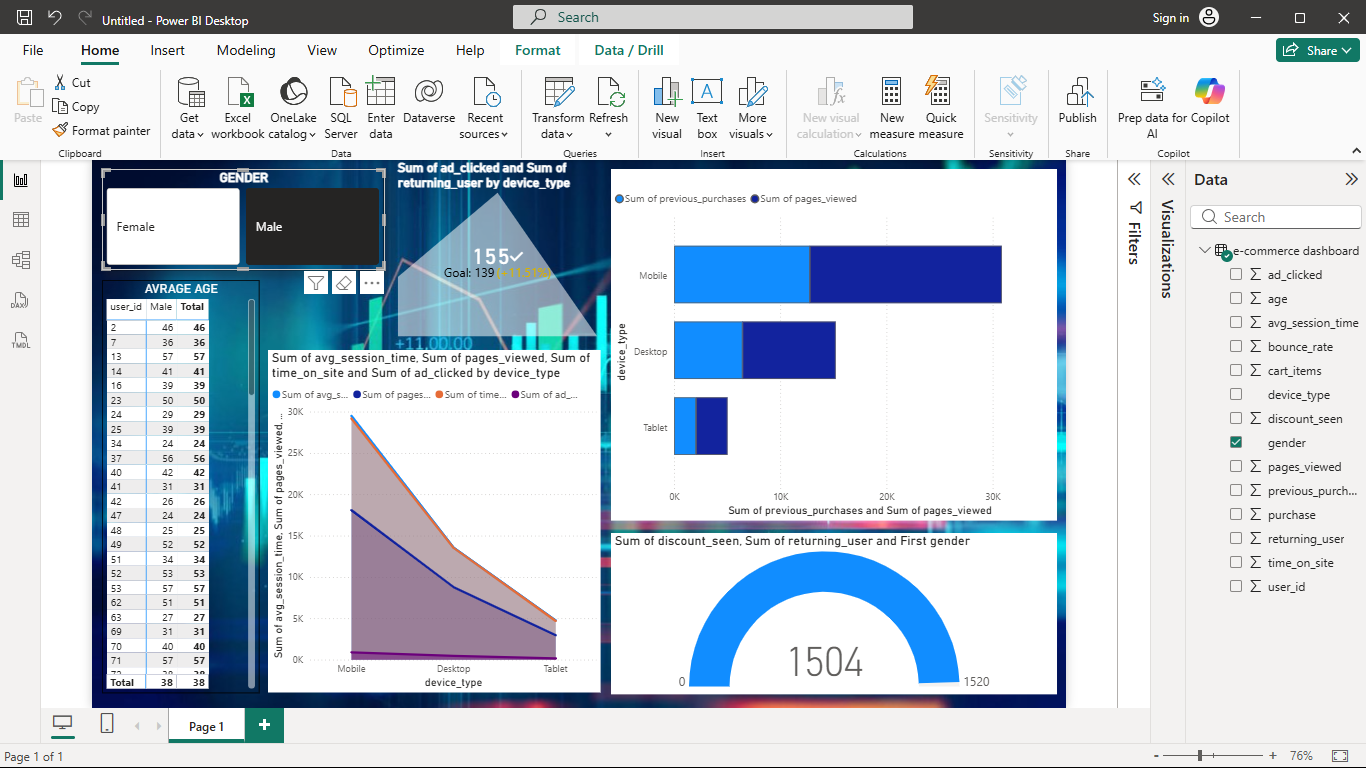

What the dashboard file says about the page in this screenshot:
{"tool":"powerbi","page":{"name":"Page 1","canvas":[1280,720],"ordinal":0},"visuals":[{"type":"advancedSlicerVisual","title":"GENDER","fields":{"Values":["e-commerce dashboard.gender"]},"box":[13.4,11.8,371.2,132.7],"z":0},{"type":"pivotTable","title":"AVRAGE AGE","fields":{"Rows":["e-commerce dashboard.user_id"],"Columns":["e-commerce dashboard.gender"],"Values":["Median(e-commerce dashboard.age)"]},"box":[13.4,157.9,206.6,542.6],"z":1000},{"type":"barChart","fields":{"Y":["Sum(e-commerce dashboard.previous_purchases)","Sum(e-commerce dashboard.pages_viewed)"],"Category":["e-commerce dashboard.device_type"]},"box":[682,11.8,586.2,461.9],"z":2000},{"type":"kpi","fields":{"Indicator":["Sum(e-commerce dashboard.ad_clicked)"],"TrendLine":["e-commerce dashboard.device_type"],"Goal":["Sum(e-commerce dashboard.returning_user)"]},"box":[396.4,0,272.1,236.9],"z":2001},{"type":"areaChart","fields":{"Y":["Sum(e-commerce dashboard.avg_session_time)","Sum(e-commerce dashboard.pages_viewed)","Sum(e-commerce dashboard.time_on_site)","Sum(e-commerce dashboard.ad_clicked)"],"Category":["e-commerce dashboard.device_type"]},"box":[231.8,250.3,436.7,450.2],"z":2002},{"type":"gauge","fields":{"Y":["Sum(e-commerce dashboard.discount_seen)"],"MaxValue":["Sum(e-commerce dashboard.returning_user)"]},"box":[682,490.5,586.2,211.7],"z":2003}]}

Visuals, with their boxes on the page's 1280x720 design canvas (x1, y1, x2, y2). These are canvas units, not pixel positions in the 1366x768 screenshot, which may show the page scaled, cropped or inside an application window:
"GENDER" advancedSlicerVisual: detection(13, 12, 385, 144)
"AVRAGE AGE" pivotTable: detection(13, 158, 220, 700)
barChart - Sum(e-commerce dashboard.previous_purchases) x Sum(e-commerce dashboard.pages_viewed): detection(682, 12, 1268, 474)
kpi - Sum(e-commerce dashboard.ad_clicked) x e-commerce dashboard.device_type: detection(396, 0, 668, 237)
areaChart - Sum(e-commerce dashboard.avg_session_time) x Sum(e-commerce dashboard.pages_viewed): detection(232, 250, 668, 700)
gauge - Sum(e-commerce dashboard.discount_seen) x Sum(e-commerce dashboard.returning_user): detection(682, 490, 1268, 702)
